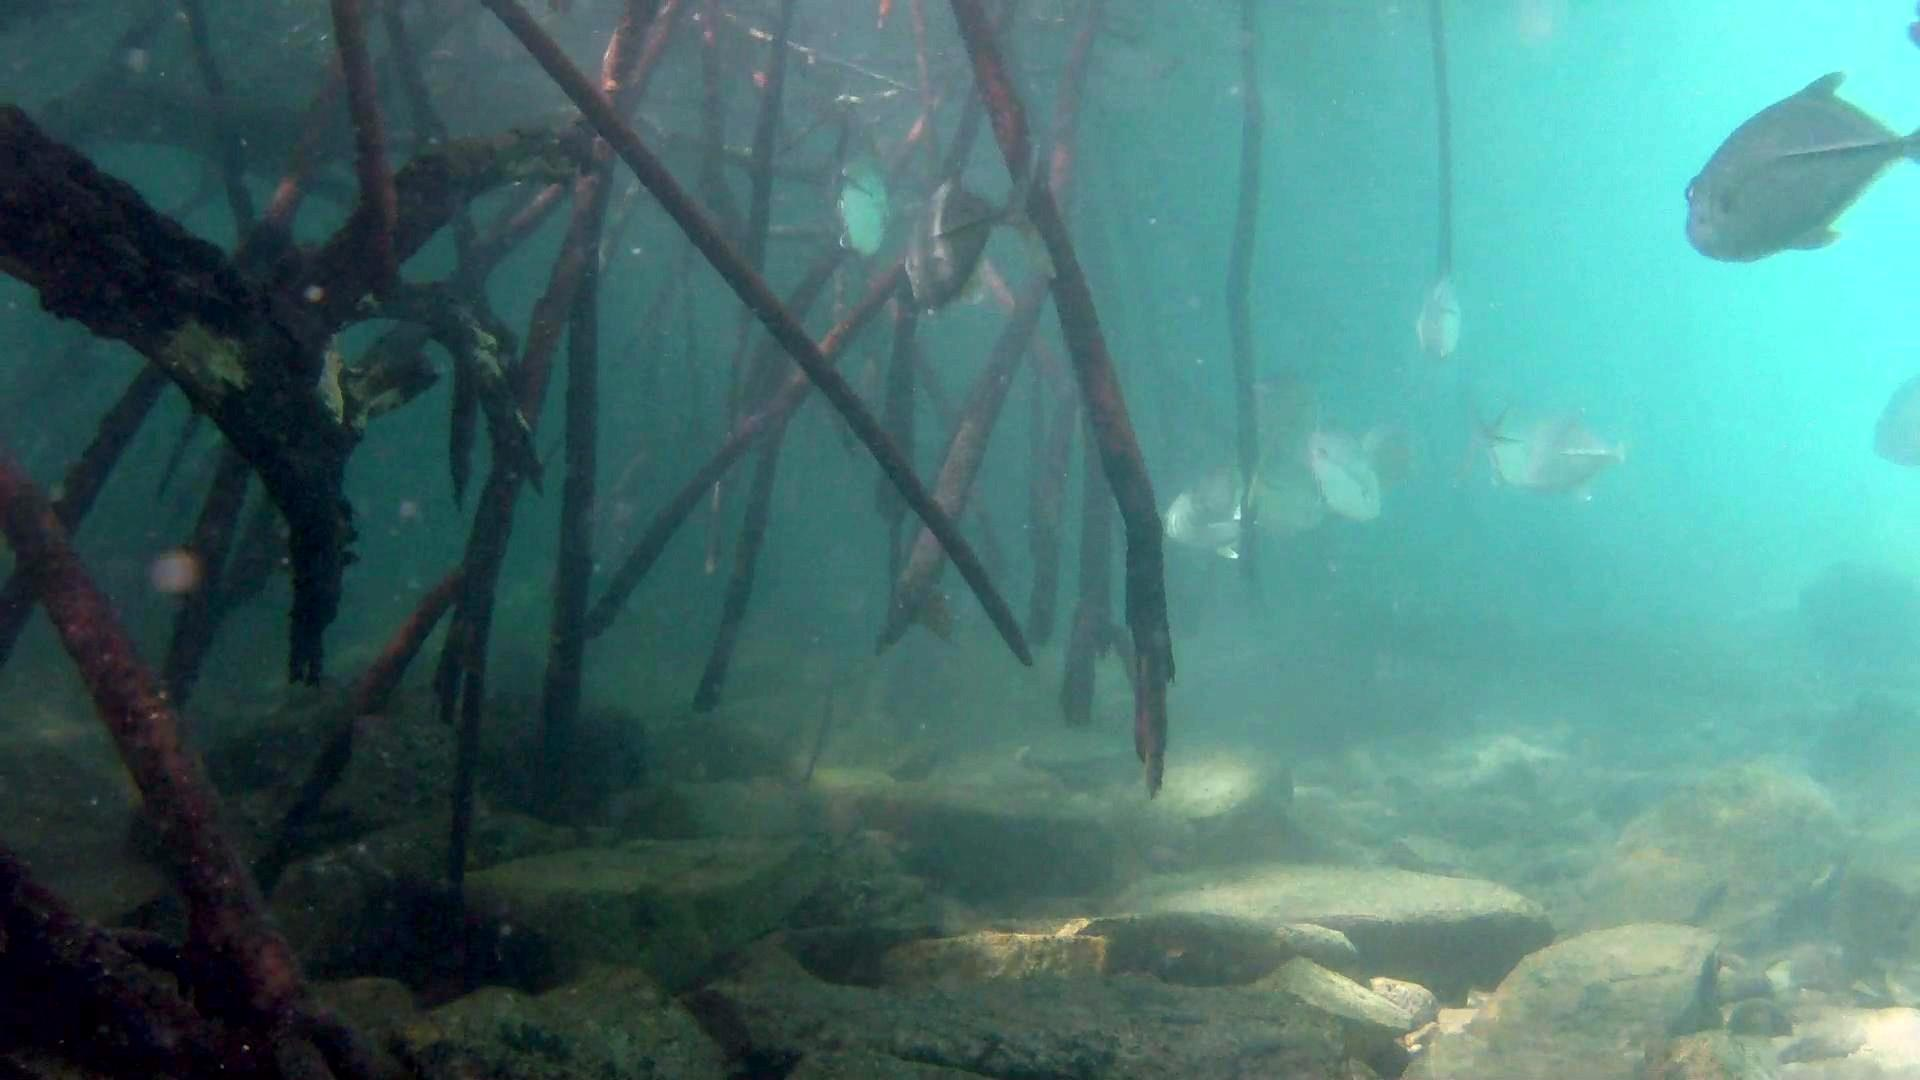caranx: (1677, 67, 1920, 265), (894, 134, 1068, 311)
